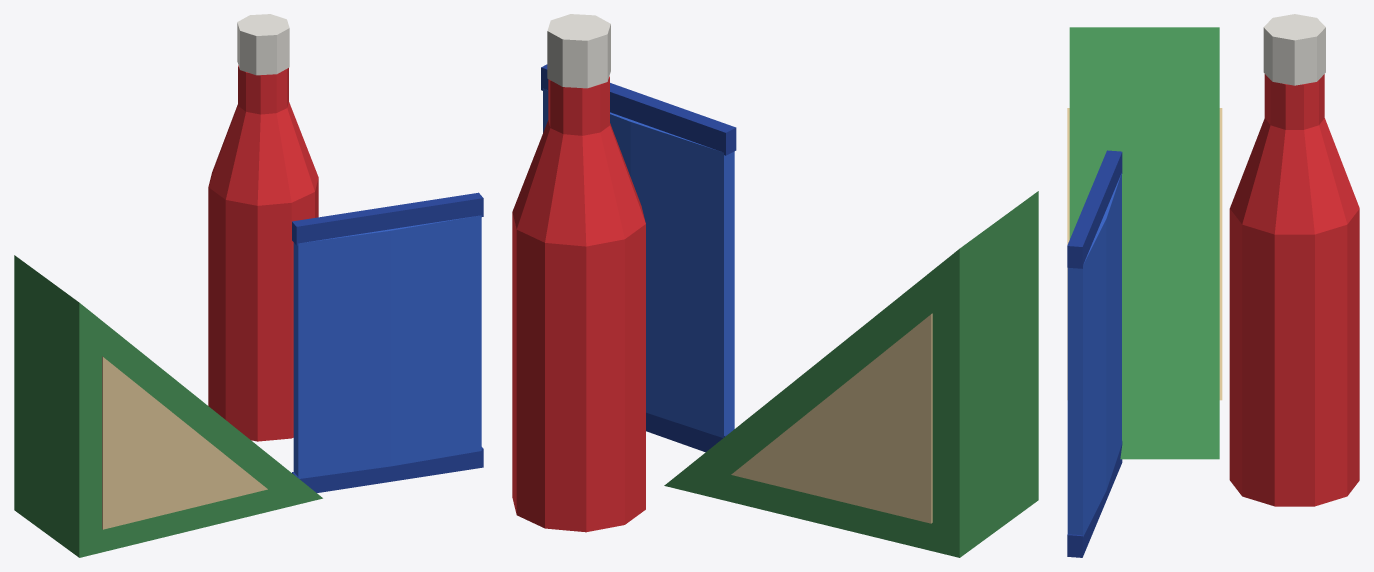
Rendered from meal-deal.glb.
3 renders of one model, left to right at view 1: azimuth 30°, elevation 25°; view 2: azimuth 150°, elevation 25°; view 3: azimuth 270°, elevation 25°, orthographic. The views are drawn at different scales.
Parts seen in each view (by area): view 1: meal_deal; view 2: meal_deal; view 3: meal_deal.
Part boxes in pixels (x1=…): meal_deal: x1=14, y1=14, x2=483, y2=557; meal_deal: x1=512, y1=14, x2=1038, y2=557; meal_deal: x1=1067, y1=14, x2=1359, y2=557.
Bounding box in the file's own units: 0.2157 × 0.2036 × 0.117.
